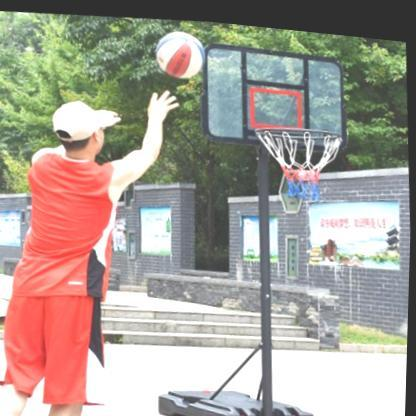basketball: (155, 24, 207, 78)
rim: (252, 116, 343, 200)
